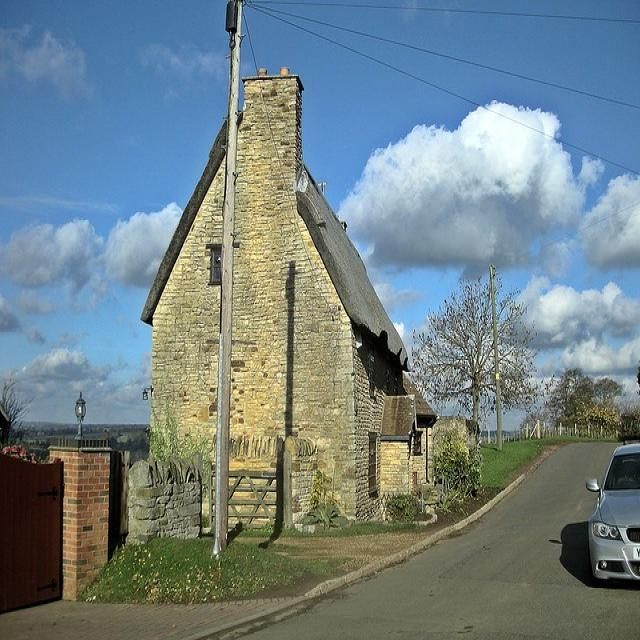building: (134, 69, 437, 540)
